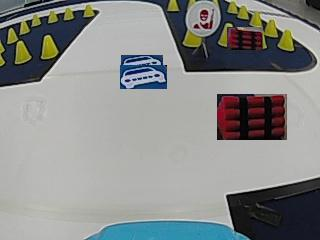evil: (185, 1, 220, 37)
